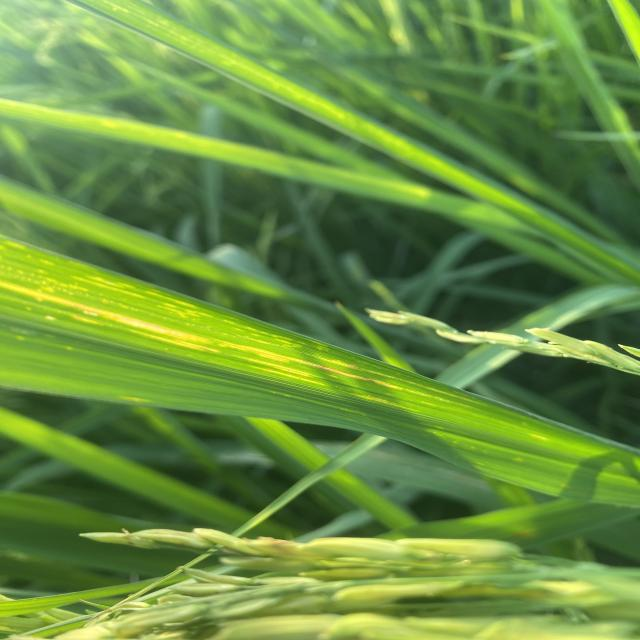Dom soc vi khuan: (0, 281, 210, 344), (219, 342, 402, 390), (318, 357, 393, 378), (257, 367, 325, 386), (247, 358, 309, 377), (350, 393, 409, 409)
